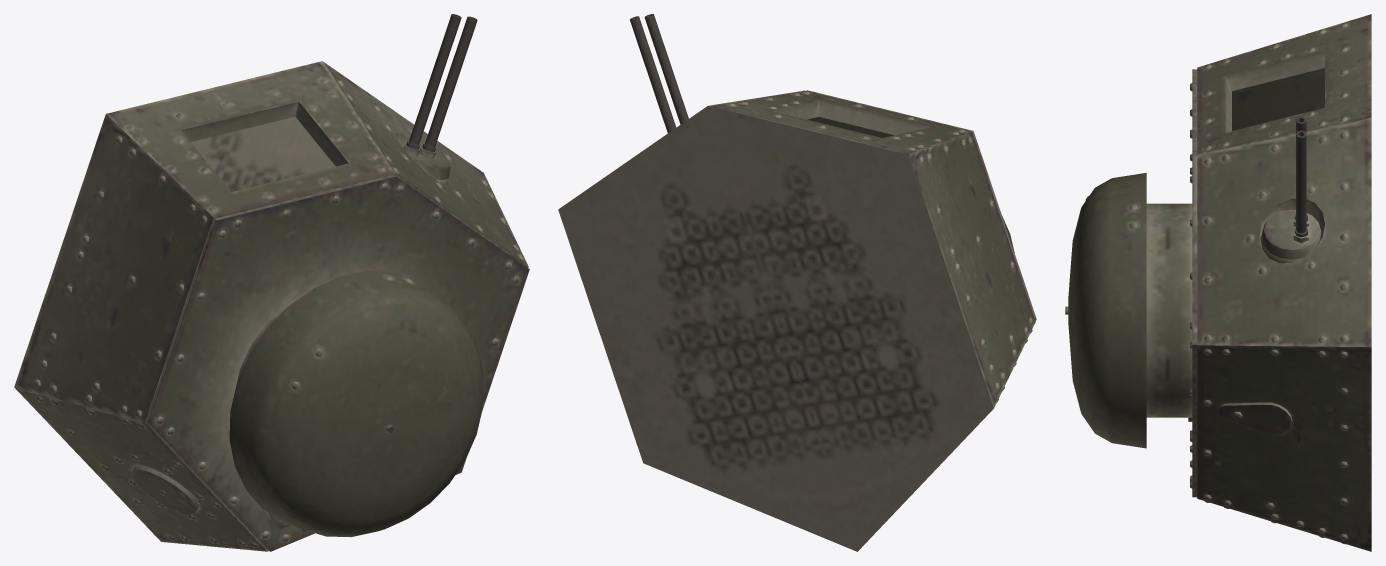
The model's file is Turret_01.glb.
The picture shows the model from 3 angles, left to right: view 1: azimuth 30°, elevation 25°; view 2: azimuth 150°, elevation 25°; view 3: azimuth 270°, elevation 25°; orthographic projection. The views are drawn at different scales.
Visible parts, largest first — view 1: set_0_group_0; view 2: set_0_group_0; view 3: set_0_group_0.
Boxes of the visible parts, x1,y1,x2,y2 form: set_0_group_0: (14, 14, 529, 551); set_0_group_0: (558, 14, 1036, 551); set_0_group_0: (1065, 14, 1371, 551).
Size of the model in its own units: 1.28 by 1.28 by 0.7293.
1 material, 1 textured.
